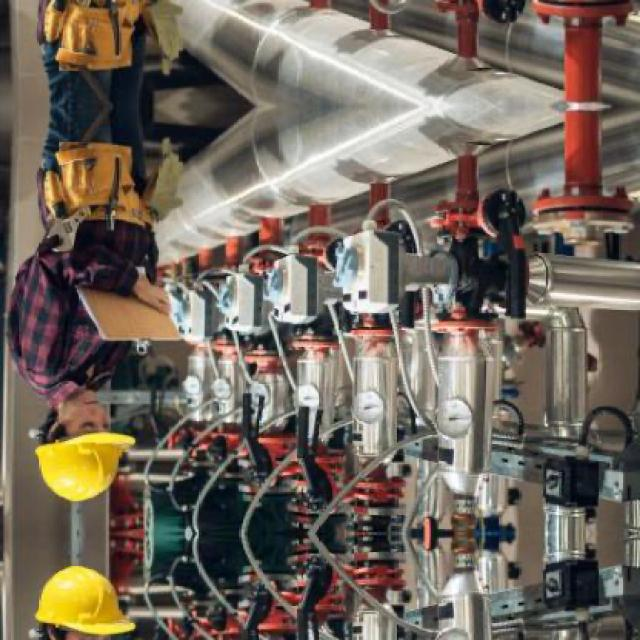con casco: (0, 361, 140, 538)
